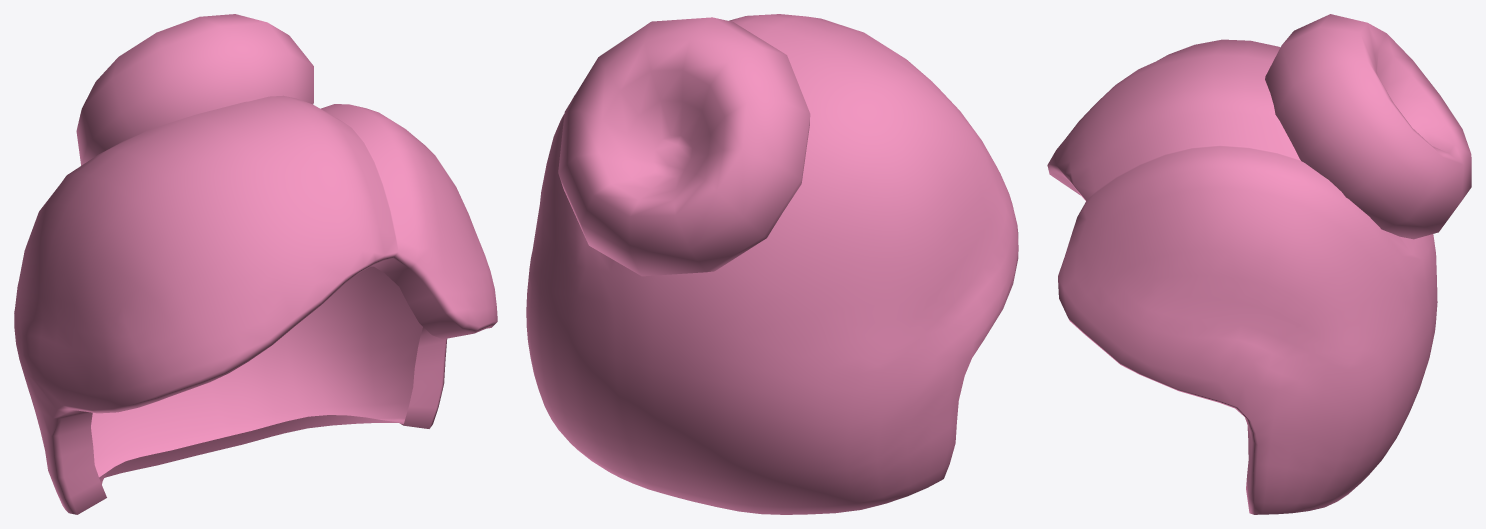
Rendered from Girl Hair 01.glb.
3 renders of one model, left to right at view 1: azimuth 30°, elevation 25°; view 2: azimuth 150°, elevation 25°; view 3: azimuth 270°, elevation 25°, orthographic. The views are drawn at different scales.
Parts seen in each view (by area): view 1: GirlHair1; view 2: GirlHair1; view 3: GirlHair1.
Boxes of the visible parts, x1,y1,x2,y2 form: GirlHair1: [14, 14, 497, 514]; GirlHair1: [526, 14, 1018, 514]; GirlHair1: [1047, 14, 1471, 514].
Size of the model in its own units: 0.00919 by 0.00924 by 0.00831.
1 material, 1 textured.
